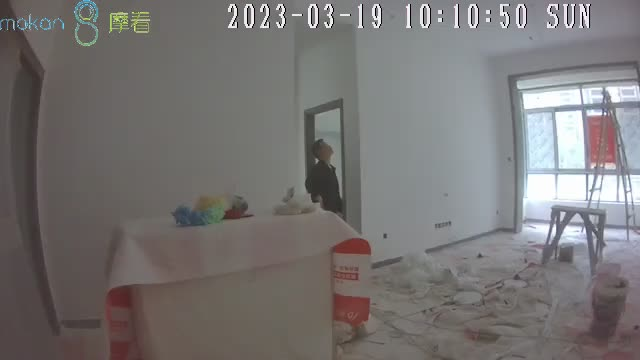people: (307, 137, 343, 212)
window: (521, 86, 640, 206)
